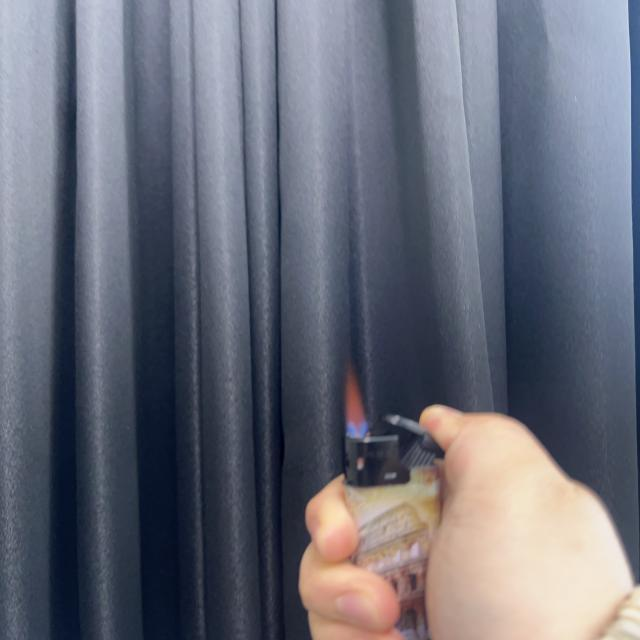fire: (340, 366, 370, 439)
